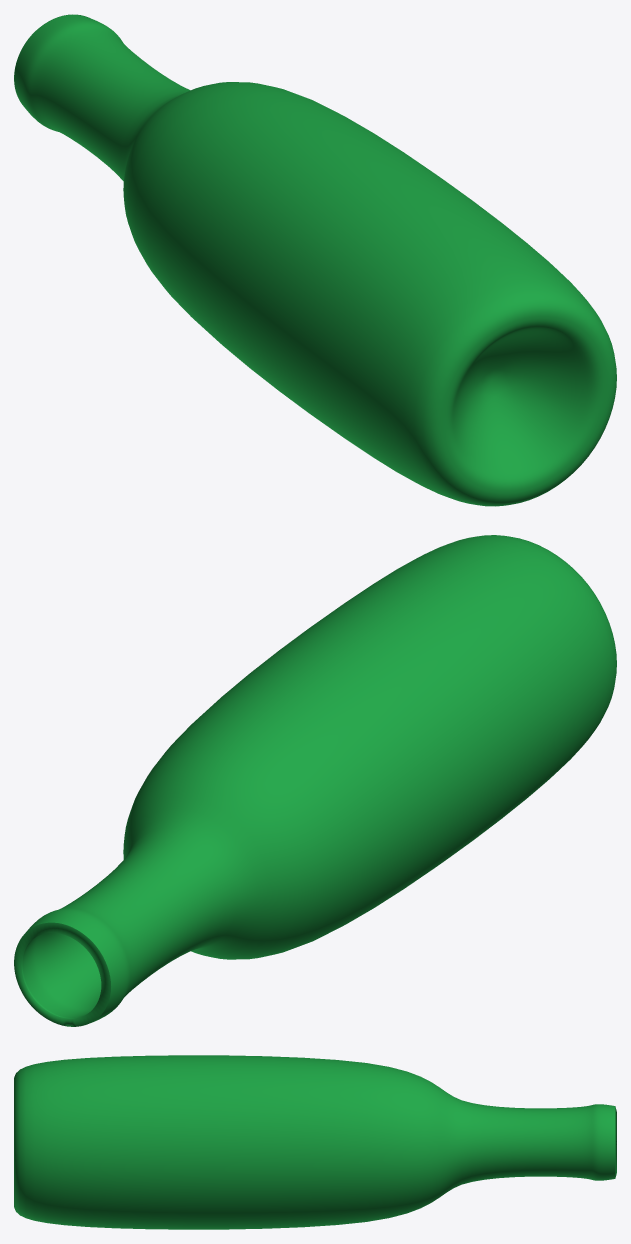
Rendered from ExportedBlenderFBXFile.fbx.
3 renders of one model, top to bottom at view 1: azimuth 30°, elevation 25°; view 2: azimuth 150°, elevation 25°; view 3: azimuth 270°, elevation 25°, orthographic. The views are drawn at different scales.
Visible parts, largest first — view 1: Circle; view 2: Circle; view 3: Circle.
Boxes of the visible parts, left/top/right/bottom form: Circle: left=14, top=14, right=616, bottom=506; Circle: left=14, top=535, right=616, bottom=1026; Circle: left=14, top=1055, right=616, bottom=1229.
Bounding box in the file's own units: 1.37 × 1.37 × 4.74.
